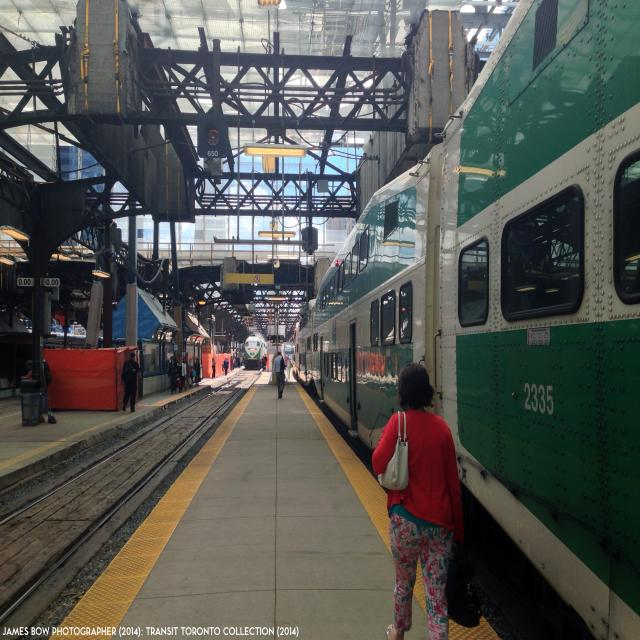body: (370, 364, 465, 640), (120, 351, 143, 413), (41, 354, 53, 415), (272, 349, 286, 398), (144, 355, 171, 374), (168, 355, 180, 394), (176, 357, 186, 393), (182, 356, 192, 392), (20, 359, 33, 382), (188, 357, 197, 390), (194, 358, 201, 387), (231, 356, 245, 369), (210, 356, 217, 379), (222, 357, 229, 376), (286, 357, 292, 379), (261, 356, 265, 372), (264, 354, 267, 371), (230, 356, 233, 372), (237, 357, 241, 369), (286, 353, 290, 361), (289, 356, 291, 360), (285, 356, 287, 358)
